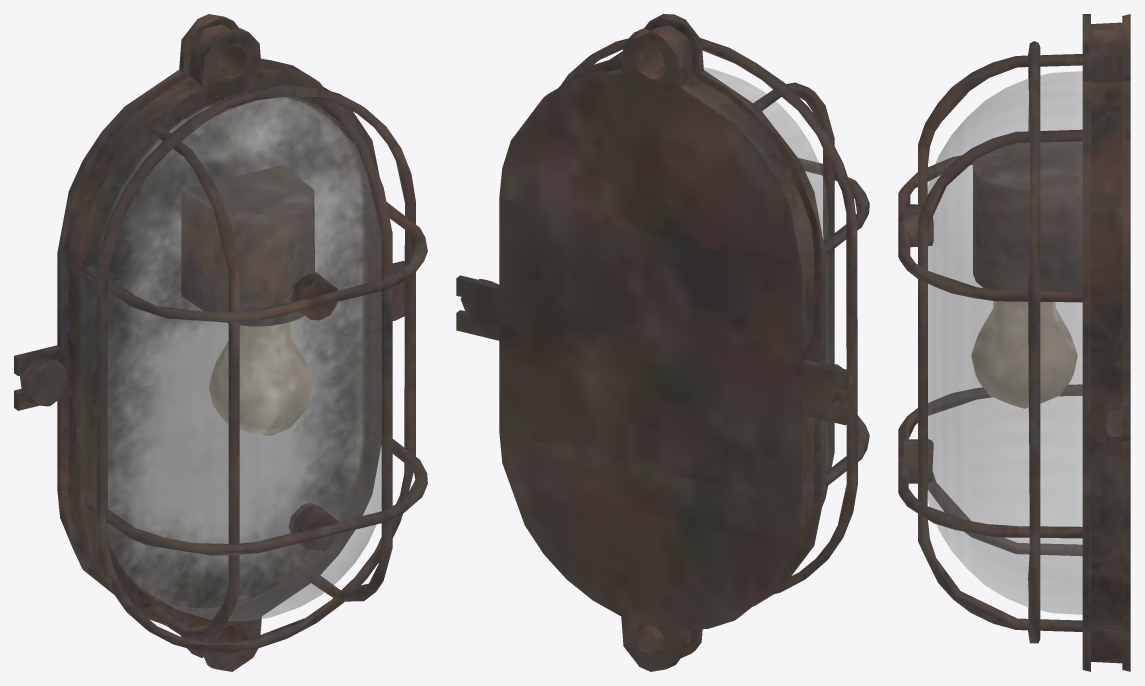
The model's file is industrial_wall_lamp.glb.
3 renders of one model, left to right at view 1: azimuth 30°, elevation 25°; view 2: azimuth 150°, elevation 25°; view 3: azimuth 270°, elevation 25°, orthographic.
Parts seen in each view (by area): view 1: industrial_wall_lamp; view 2: industrial_wall_lamp; view 3: industrial_wall_lamp.
Part boxes in pixels (<box>): industrial_wall_lamp: <box>14,14,427,671</box>; industrial_wall_lamp: <box>456,14,869,671</box>; industrial_wall_lamp: <box>898,14,1130,671</box>.
Bounding box in the file's own units: 0.2734 × 0.4299 × 0.139.
Materials: 2 (2 with a texture image).
